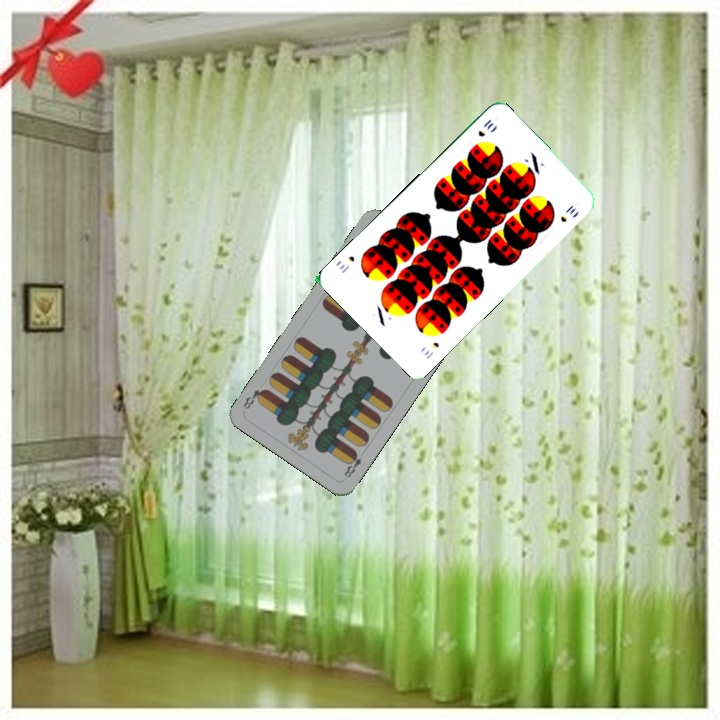E8: (340, 446, 368, 480)
S10: (474, 115, 497, 139), (420, 338, 441, 362)
